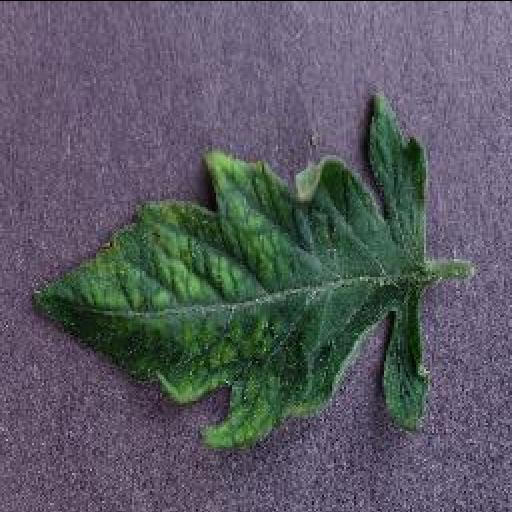Mosaic Virus: (30, 90, 438, 448)
